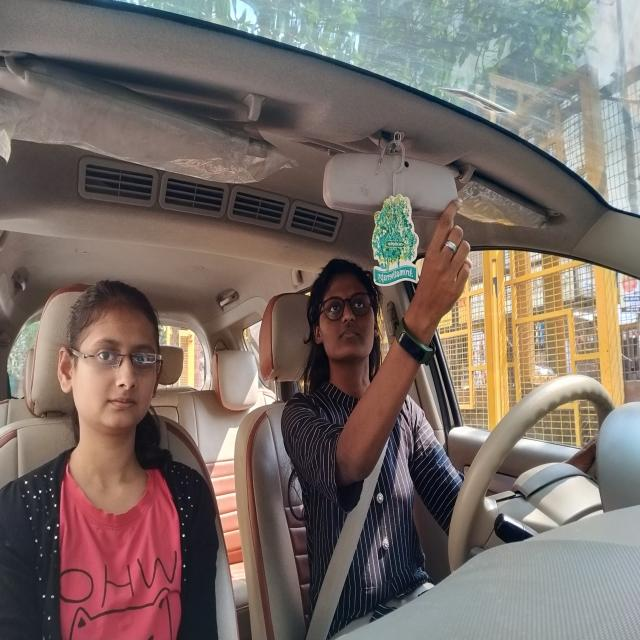person: (50, 261, 169, 451), (306, 242, 389, 392)
